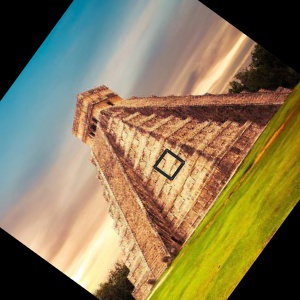square: (151, 147, 187, 183)
